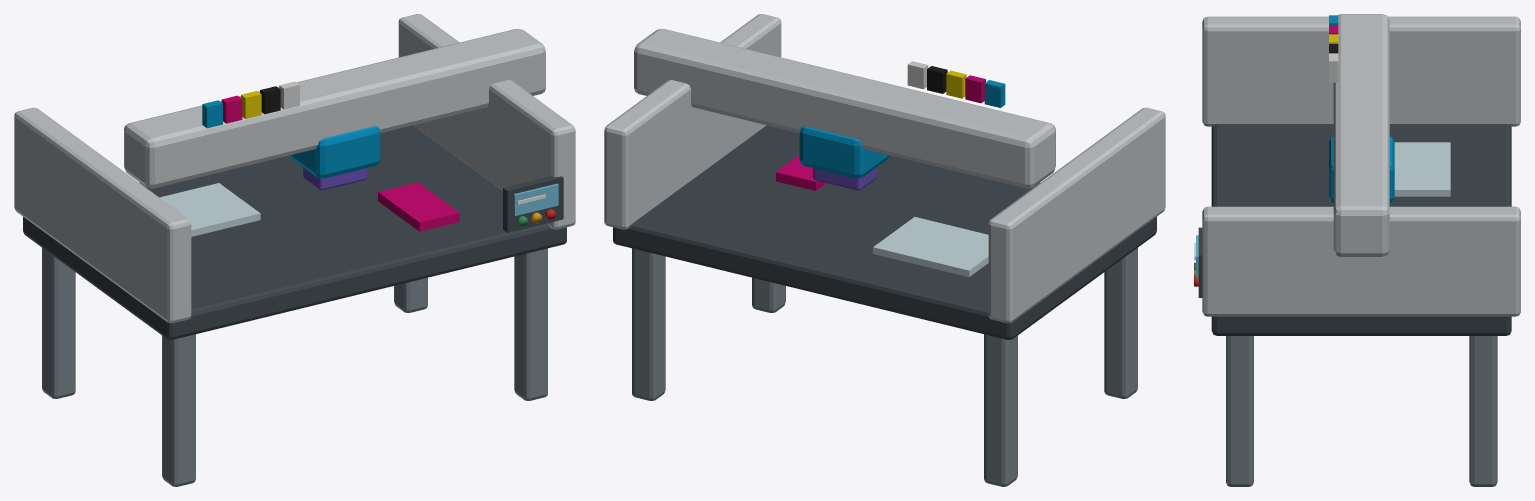
Rendered from m_uvflat.glb.
The picture shows the model from 3 angles, left to right: view 1: azimuth 30°, elevation 25°; view 2: azimuth 150°, elevation 25°; view 3: azimuth 270°, elevation 25°; orthographic projection.
Parts seen in each view (by area): view 1: m_uvflat; view 2: m_uvflat; view 3: m_uvflat.
Part boxes in pixels (left/top/right/bottom): m_uvflat: left=14, top=14, right=575, bottom=486; m_uvflat: left=604, top=14, right=1165, bottom=486; m_uvflat: left=1194, top=14, right=1520, bottom=486.
Size of the model in its own units: 0.555 by 0.3875 by 0.349.
